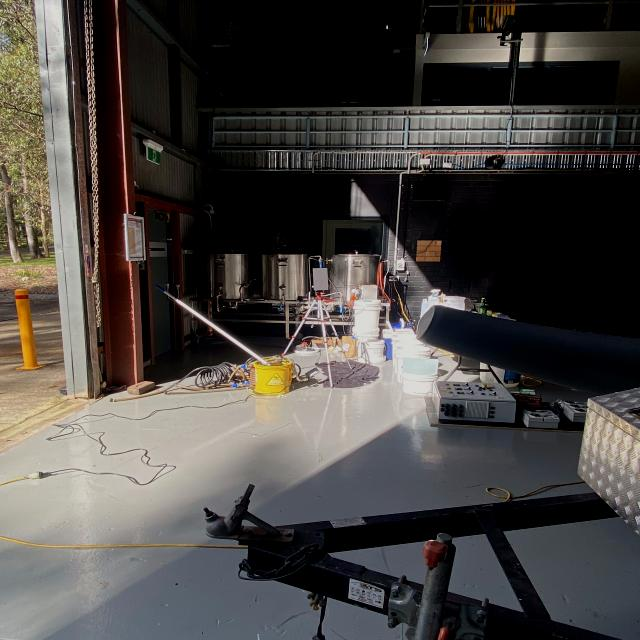matrix: (310, 266, 333, 293)
